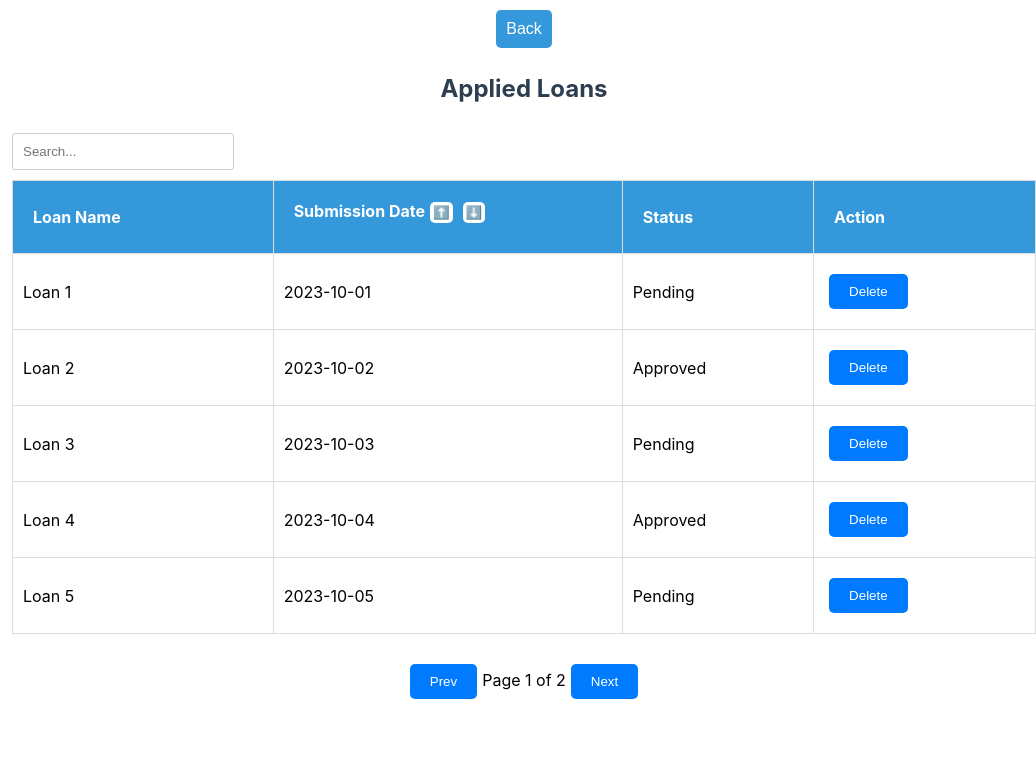
AppliedLoansPage Component › should_navigate_to_the_next_page_in_pagination
Step 1. Click the button "Next" → coordinates (604, 682), box [571,664,638,699]
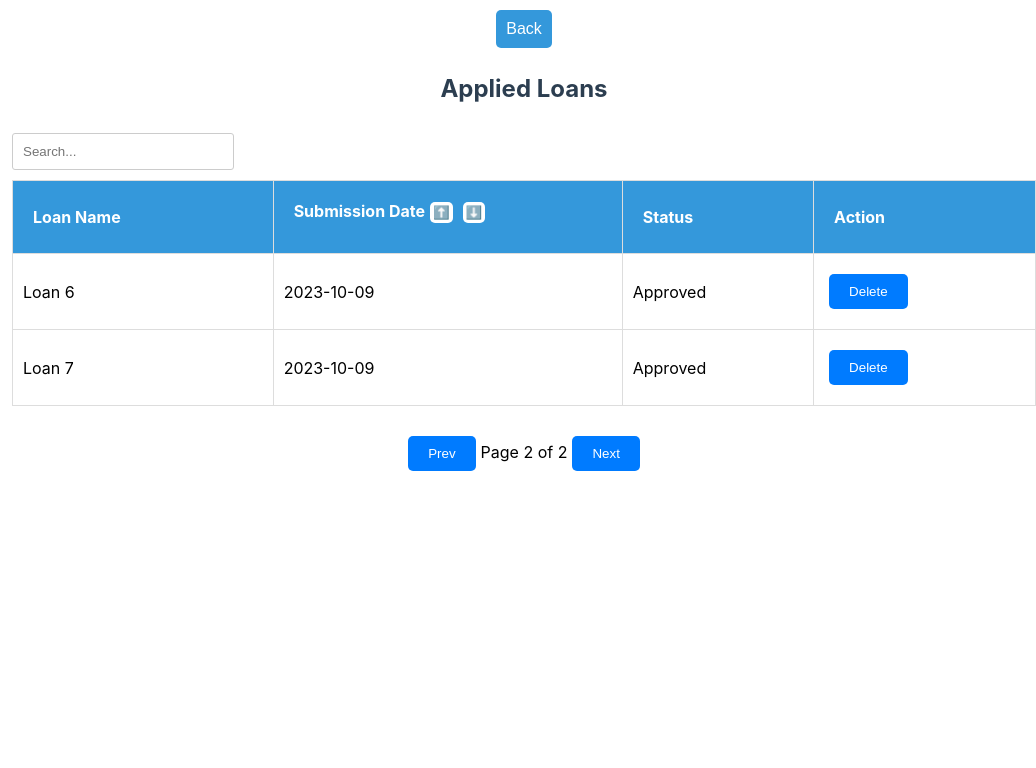
Expected: the text "Loan 6" is shown, [12,254,273,330]
